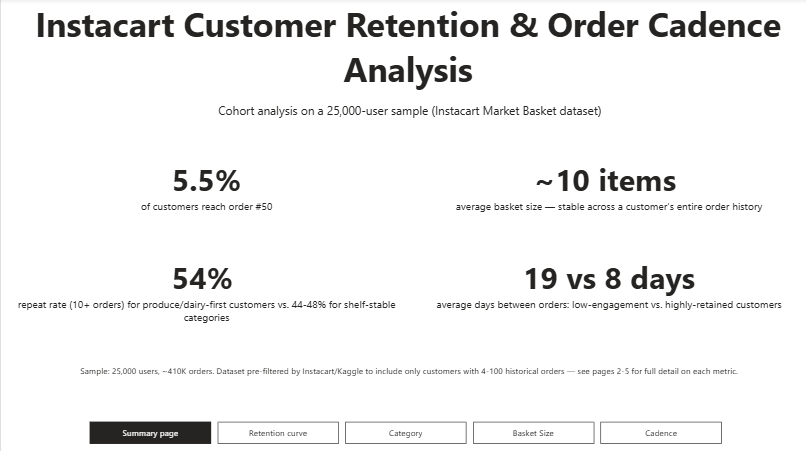

The page's visual inventory and layout, read from the dashboard file:
{"tool":"powerbi","page":{"name":"Summary page","canvas":[1280,720],"ordinal":0},"visuals":[{"type":"textbox","box":[10.8,0,1268.5,205.4],"z":0},{"type":"textbox","box":[9.9,249.2,630.9,154.3],"z":1000},{"type":"textbox","box":[9.9,403.5,630.9,130.5],"z":2000},{"type":"textbox","box":[644.8,249.2,634.9,154.3],"z":3000},{"type":"textbox","box":[644.8,403.5,634.9,130.5],"z":3001},{"type":"textbox","box":[67.2,575.5,1157,37.6],"z":3002},{"type":"pageNavigator","box":[140.4,670.5,1000.8,35.6],"z":3003}]}

Visuals, with their boxes in screenshot pixels (x1, y1, x2, y2), scaled from the page's 1280x720 canvas onto the 806x451 screenshot:
textbox: <region>7, 0, 805, 129</region>
textbox: <region>6, 156, 404, 253</region>
textbox: <region>6, 253, 404, 334</region>
textbox: <region>406, 156, 805, 253</region>
textbox: <region>406, 253, 805, 334</region>
textbox: <region>42, 360, 771, 384</region>
pageNavigator: <region>88, 420, 719, 442</region>
